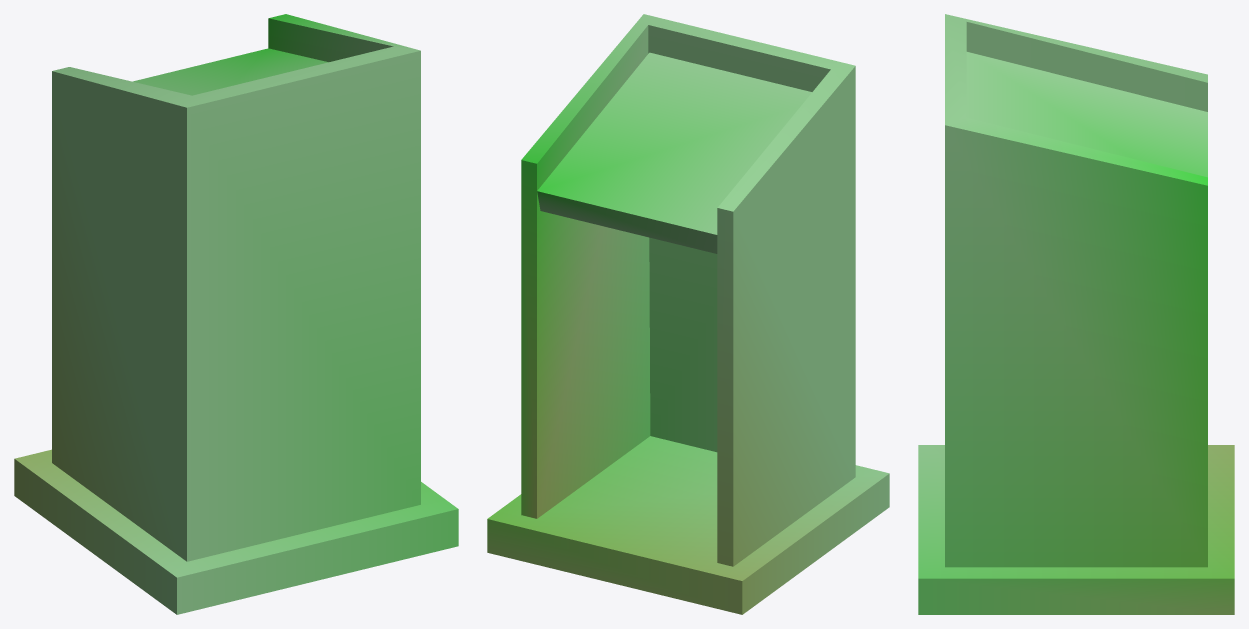
File: podium.fbx
3 views of the same model, side by side, from view 1: azimuth 30°, elevation 25°; view 2: azimuth 150°, elevation 25°; view 3: azimuth 270°, elevation 25° (orthographic). The views are drawn at different scales.
Parts seen in each view (by area): view 1: podium; view 2: podium; view 3: podium.
Boxes of the visible parts, x1,y1,x2,y2 form: podium: (14, 14, 458, 614); podium: (487, 14, 889, 614); podium: (918, 14, 1234, 614).
Size of the model in its own units: 0.8053 by 1.34 by 0.8053.
